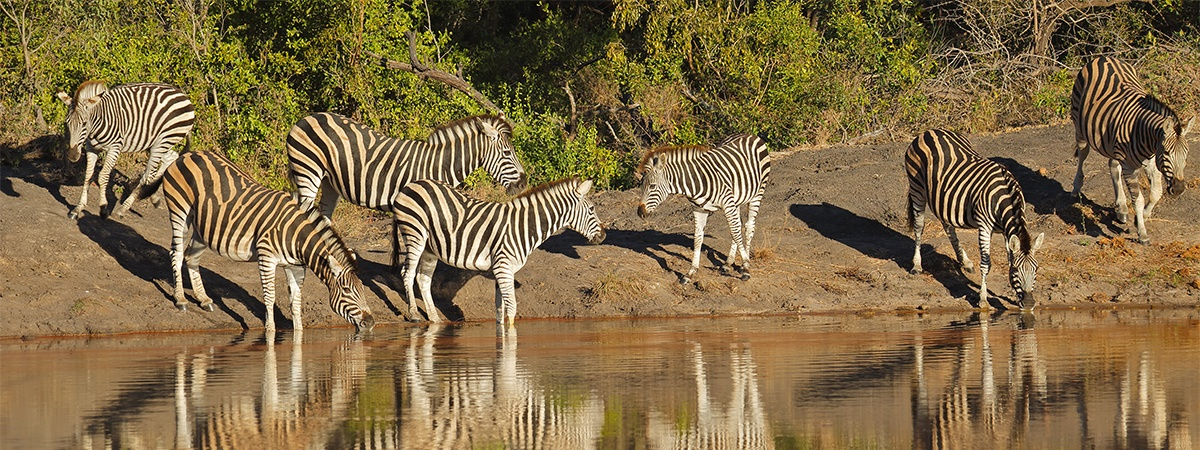zebra: (160, 148, 379, 343), (283, 113, 533, 247), (392, 175, 604, 324), (905, 126, 1041, 308), (1069, 52, 1196, 242), (57, 74, 202, 217), (635, 134, 780, 274)
